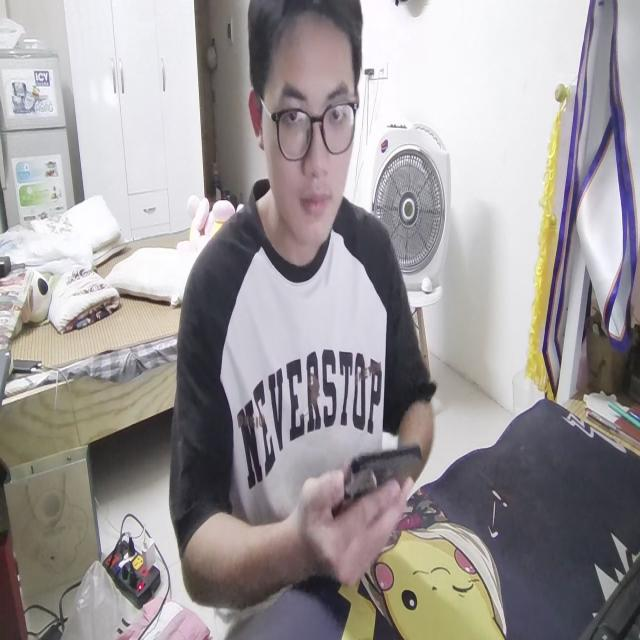phone: (331, 438, 420, 504)
student: (167, 0, 433, 640)
